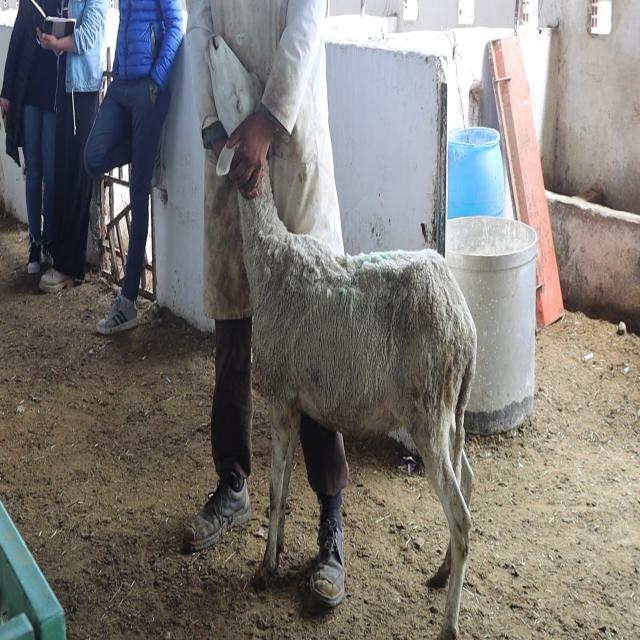Score_1: (238, 171, 476, 639)
